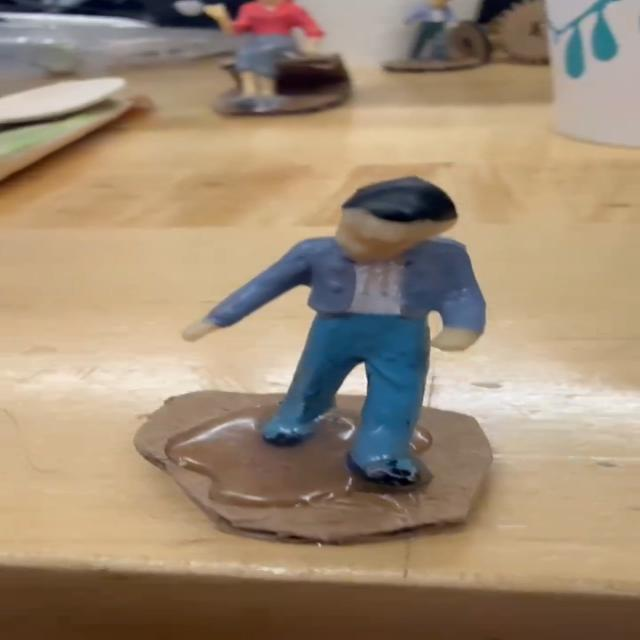Authorized: (184, 176, 492, 491)
